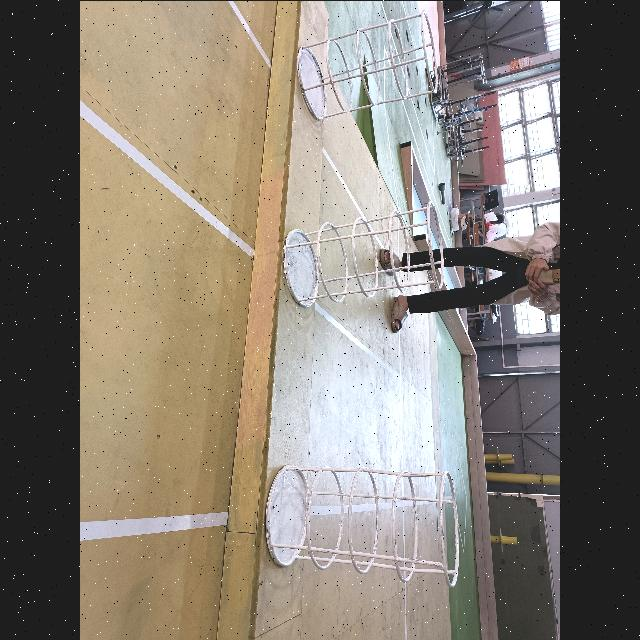S: (267, 463, 458, 583), (282, 203, 446, 308), (295, 11, 438, 120)
